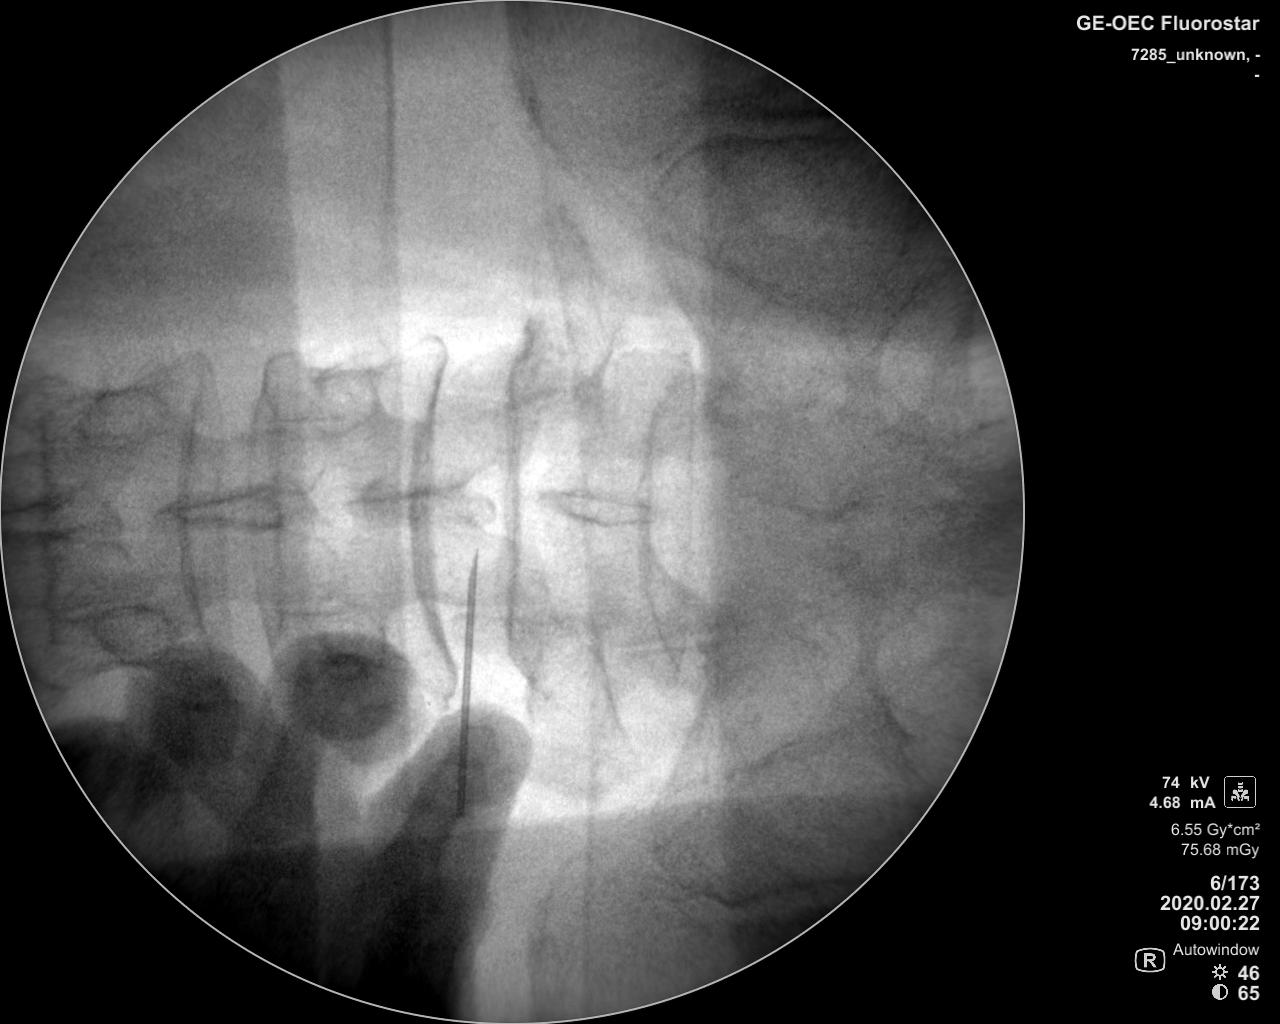eyes: (282, 358, 375, 433), (69, 385, 169, 449), (86, 602, 174, 665)
line: (178, 341, 241, 651), (403, 316, 458, 671), (579, 320, 622, 721), (644, 341, 694, 675), (496, 315, 529, 682), (249, 350, 287, 644), (34, 395, 68, 652)
nose: (152, 488, 322, 535), (529, 485, 666, 533), (344, 487, 503, 528), (3, 492, 124, 538)
